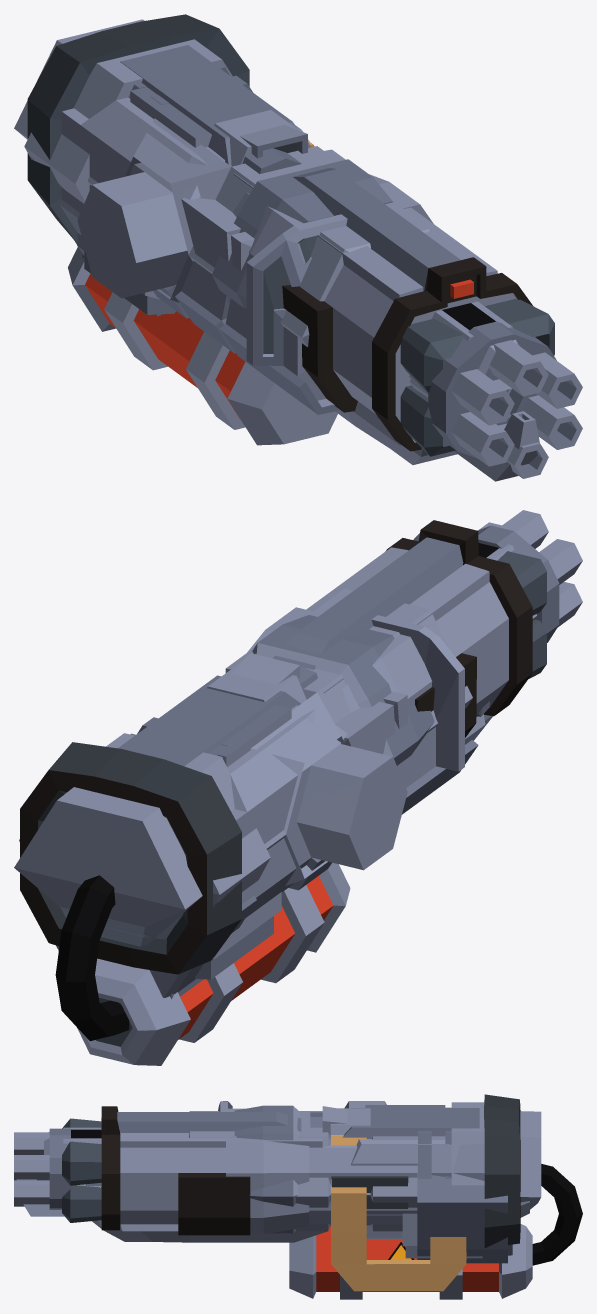
Rendered from Weapons.fbx.
3 renders of one model, top to bottom at view 1: azimuth 30°, elevation 25°; view 2: azimuth 150°, elevation 25°; view 3: azimuth 270°, elevation 25°, orthographic. The views are drawn at different scales.
Parts seen in each view (by area): view 1: Rocket, Gatling, Cannon, Grenade, Flame, Flak; view 2: Rocket, Grenade, Gatling, Flame, Cannon, Flak; view 3: Rocket, Flak, Gatling, Flame, Grenade, Cannon.
Boxes of the visible parts, x1=… form: Rocket: x1=27, y1=14, x2=532, y2=451; Gatling: x1=77, y1=141, x2=582, y2=478; Cannon: x1=61, y1=87, x2=428, y2=418; Grenade: x1=14, y1=19, x2=514, y2=464; Flame: x1=68, y1=64, x2=539, y2=481; Flak: x1=82, y1=45, x2=554, y2=456; Rocket: x1=20, y1=520, x2=532, y2=974; Grenade: x1=14, y1=544, x2=514, y2=997; Gatling: x1=194, y1=510, x2=582, y2=979; Flame: x1=55, y1=543, x2=498, y2=1065; Cannon: x1=210, y1=614, x2=537, y2=917; Flak: x1=19, y1=533, x2=546, y2=999; Rocket: x1=100, y1=1094, x2=520, y2=1248; Flak: x1=62, y1=1108, x2=529, y2=1263; Gatling: x1=14, y1=1101, x2=482, y2=1291; Flame: x1=16, y1=1107, x2=582, y2=1299; Grenade: x1=63, y1=1102, x2=541, y2=1255; Cannon: x1=218, y1=1101, x2=449, y2=1215.
Bounding box in the file's own units: 48.31 × 55.63 × 160.
